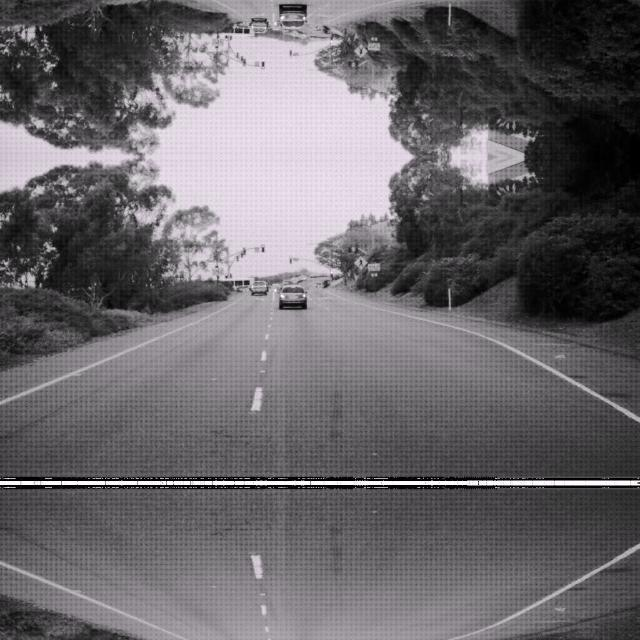pedestrianCrossing: (352, 254, 368, 268), (352, 44, 368, 58)
